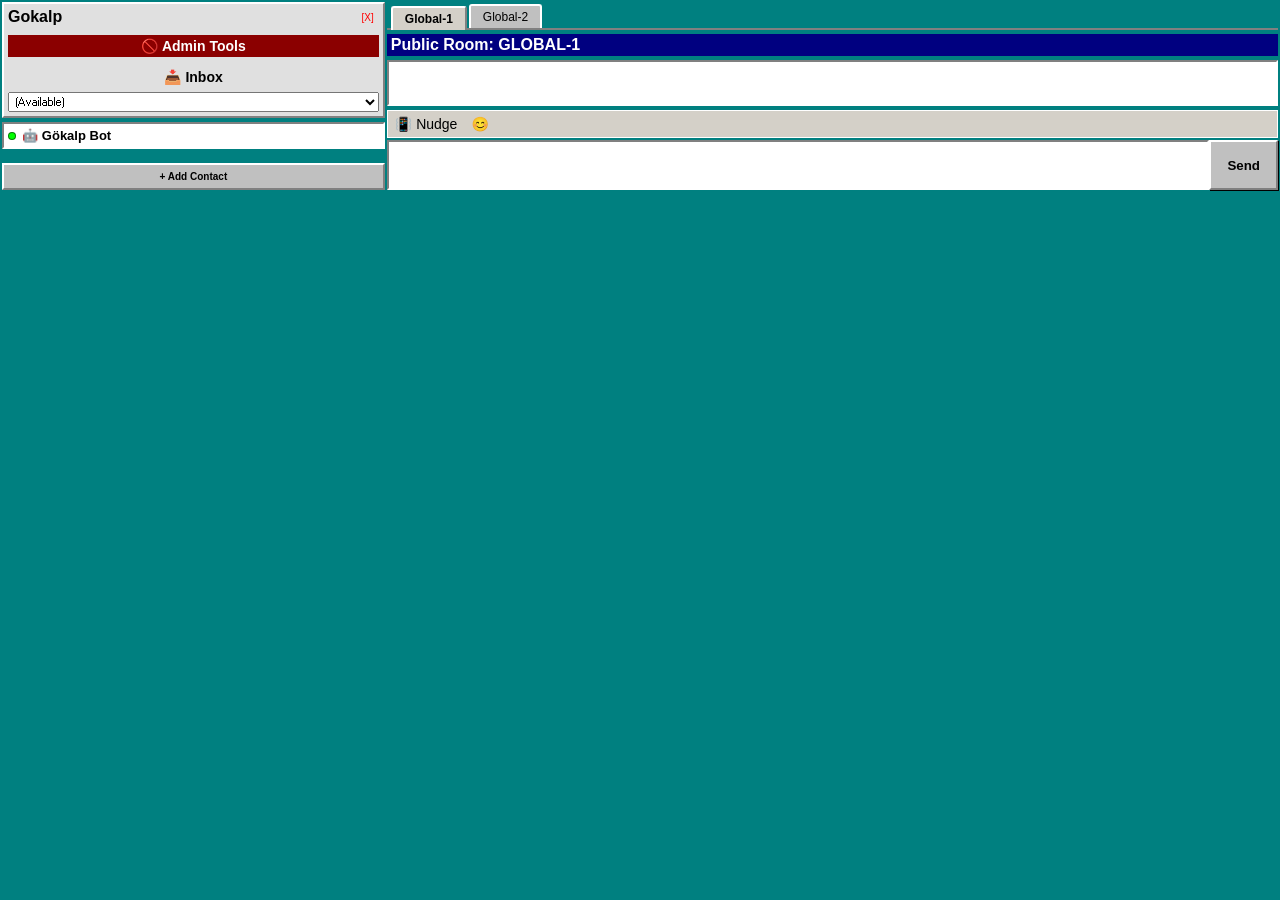
Test: admin inbox › says so when there are no messages yet
This screenshot has width=1280, height=900.
Click the button "📥 Inbox" at (193, 77), box [8,66,379,88]
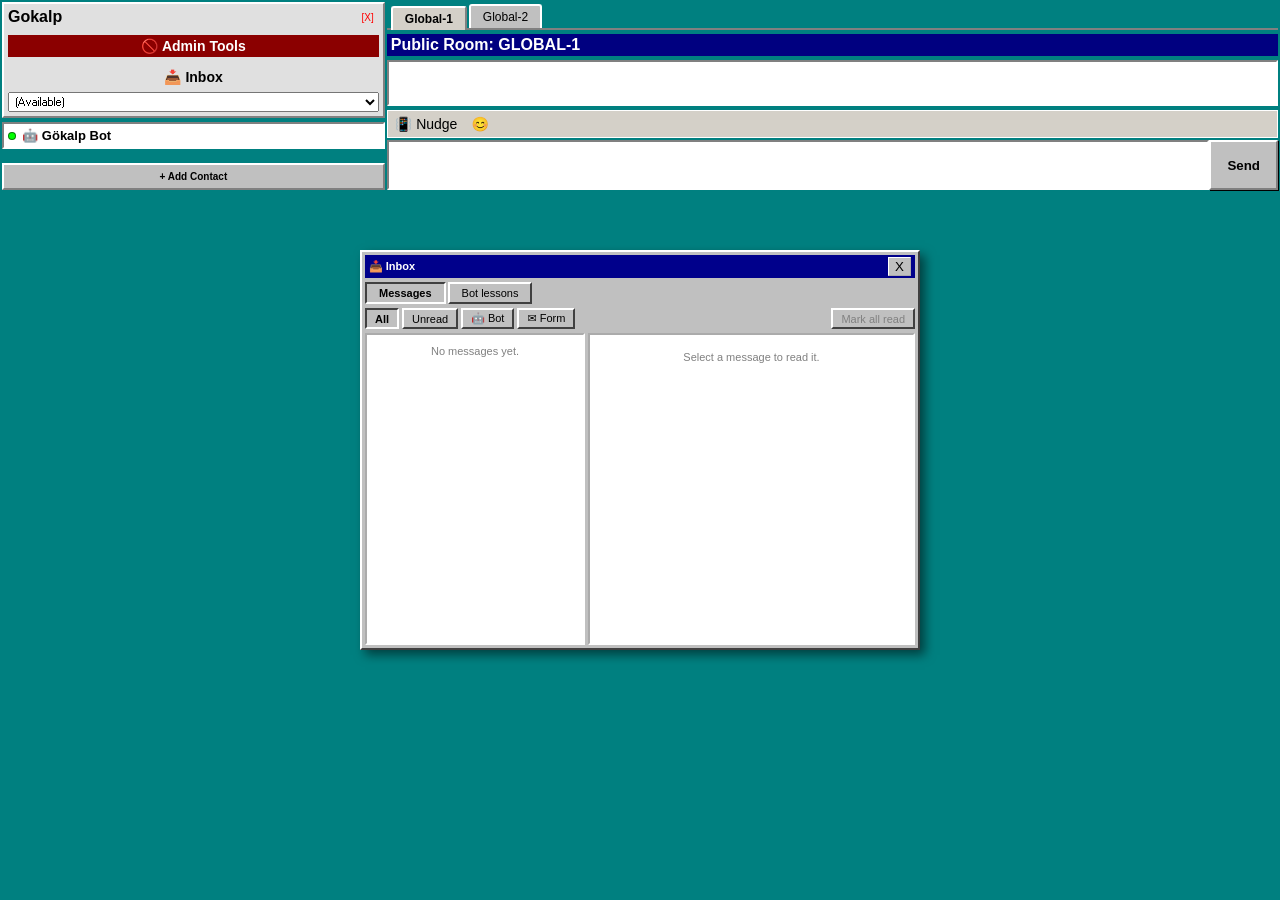
Check: the text "No messages yet." is shown, box [431,345,519,357]
